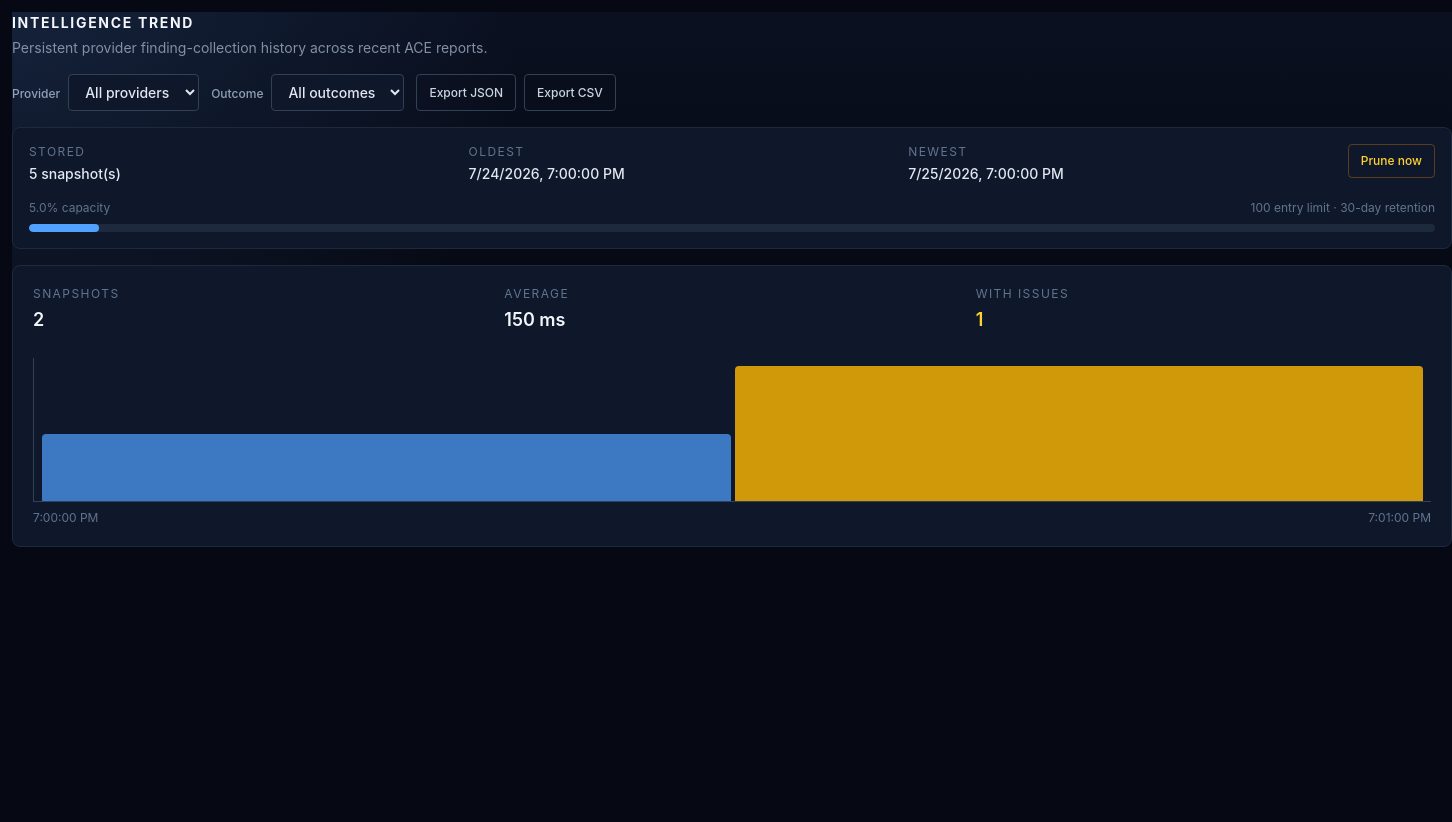
Test case: IntelligenceTrendSection › shows retention and confirms manual pruning
The width and height of the screenshot is (1452, 822).
expect the text "5 snapshot(s)" is shown: met, box [29,165,121,182]
expect the text "5.0% capacity" is shown: met, box [29,200,110,216]
Click the button "Prune now" at (1391, 161), box [1348,144,1435,178]
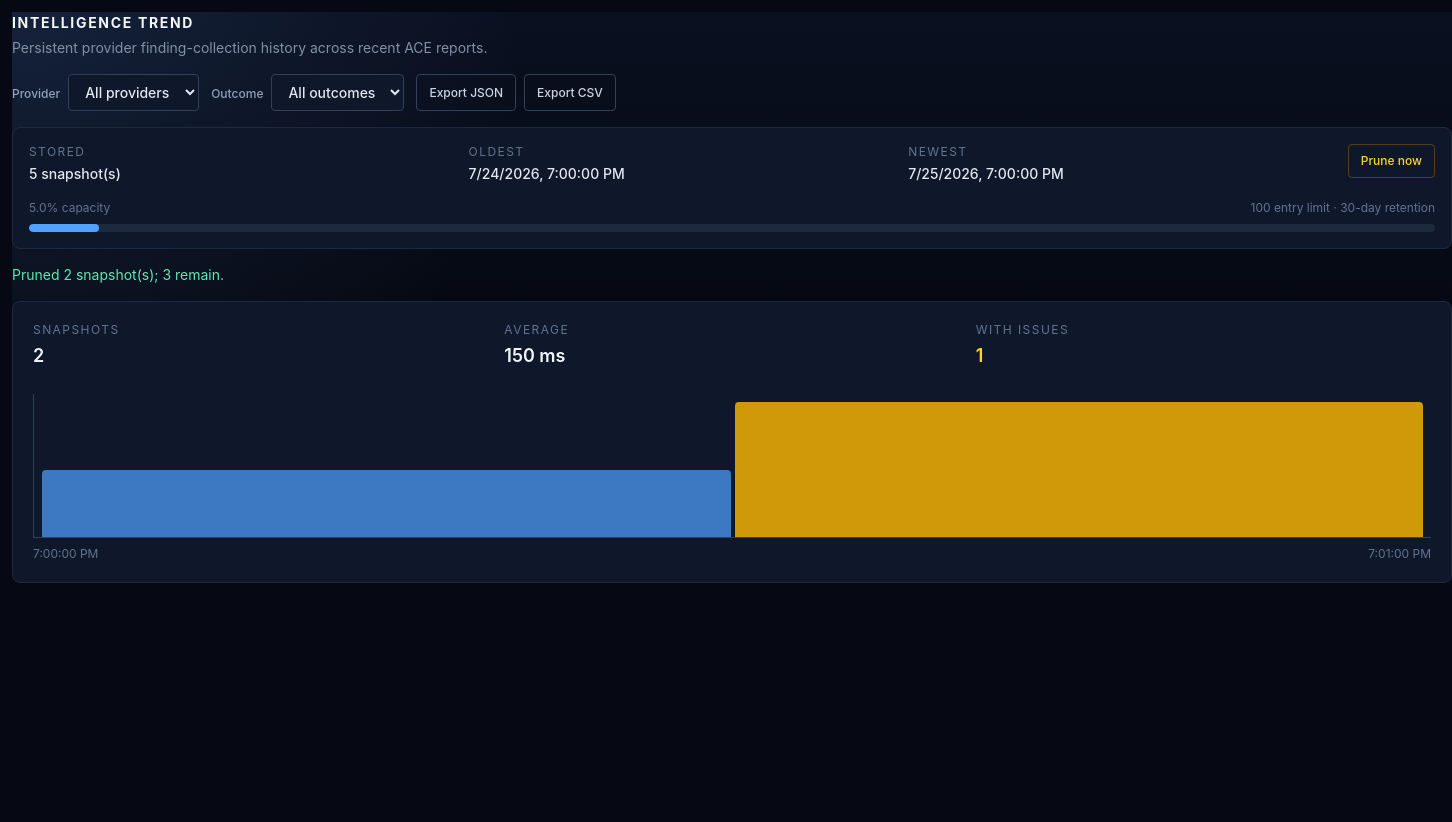
expect the text "Pruned 2 snapshot(s); 3 remain." is shown: met, box [12,266,224,283]
